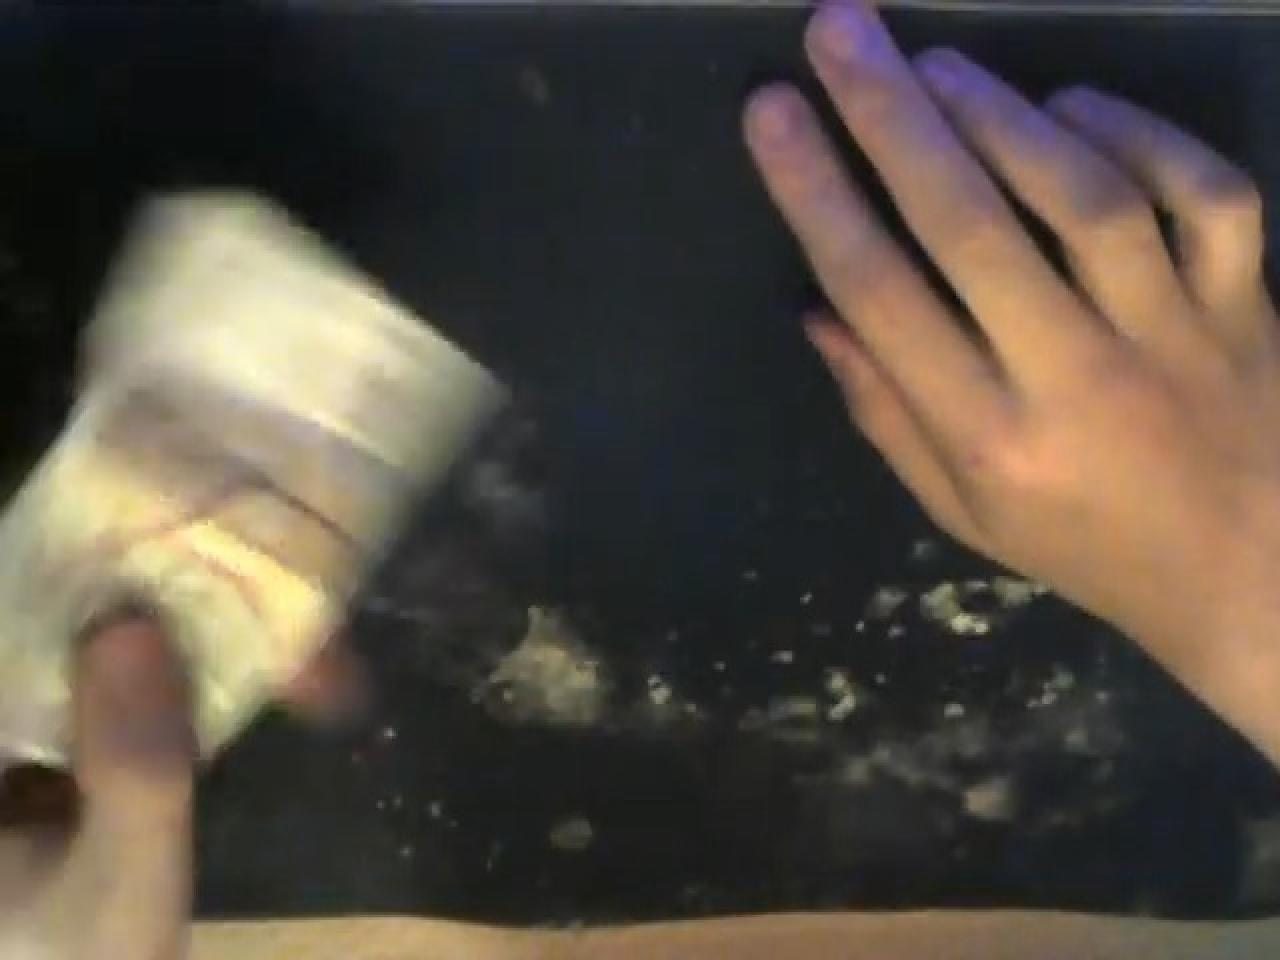10leva: (0, 182, 508, 960)
